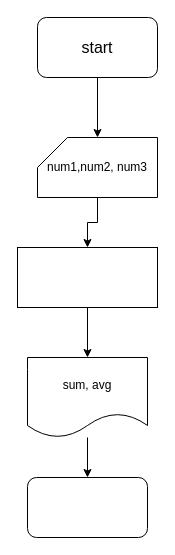
This 175x555 diagram has some shape labels left out. The box of each missing label's shape, as (x1, y1, x2, y2) in pixels:
stop: (26, 476, 148, 538)
sum=num1+num2+num3 avg=sum/3: (16, 246, 158, 308)
